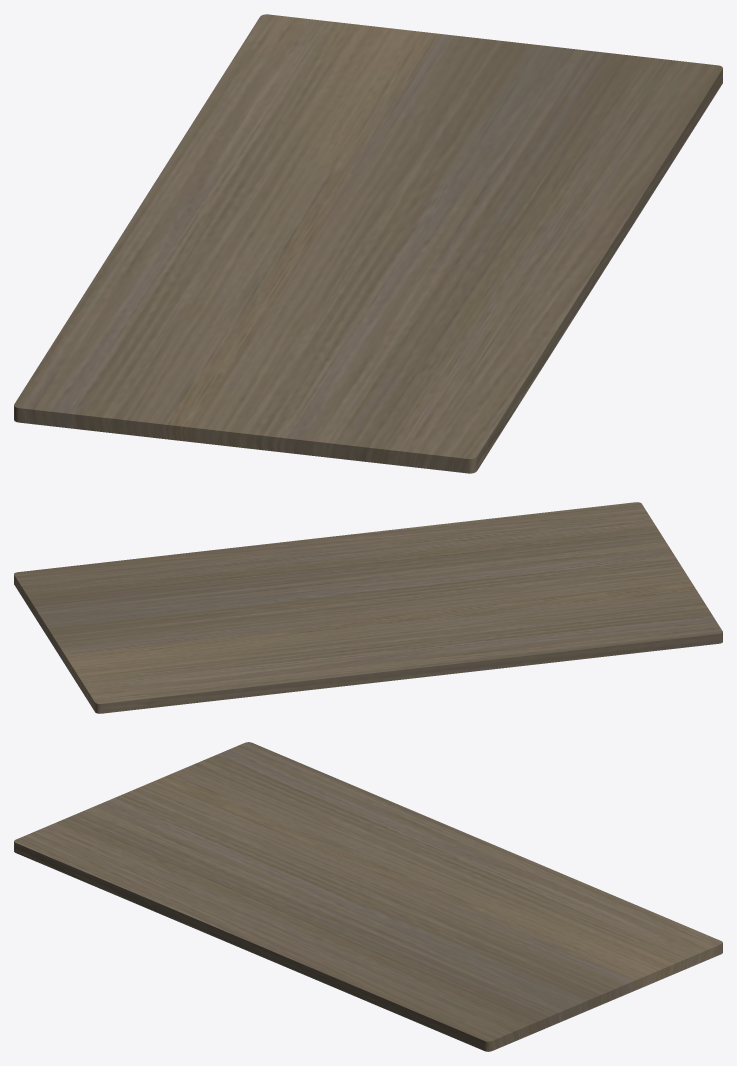
Rendered from bottom_shelf_0101_w800_d400.glb.
3 views of the same model, one above another, from view 1: azimuth 30°, elevation 25°; view 2: azimuth 150°, elevation 25°; view 3: azimuth 270°, elevation 25° (orthographic). The views are drawn at different scales.
Visible parts, largest first — view 1: bottom_shelf_0101_w800_d400; view 2: bottom_shelf_0101_w800_d400; view 3: bottom_shelf_0101_w800_d400.
Part boxes in pixels (x1=…): bottom_shelf_0101_w800_d400: x1=14, y1=14, x2=722, y2=473; bottom_shelf_0101_w800_d400: x1=14, y1=502, x2=722, y2=713; bottom_shelf_0101_w800_d400: x1=14, y1=742, x2=722, y2=1051.
Bounding box in the file's own units: 0.8274 × 0.0131 × 0.8274.
Materials: 1 (1 with a texture image).
